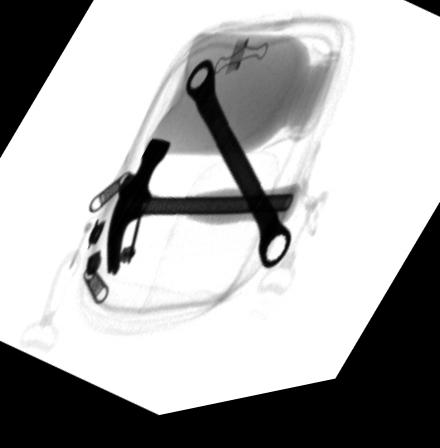Hammer: (106, 144, 303, 280)
Wrench: (185, 66, 291, 279)
